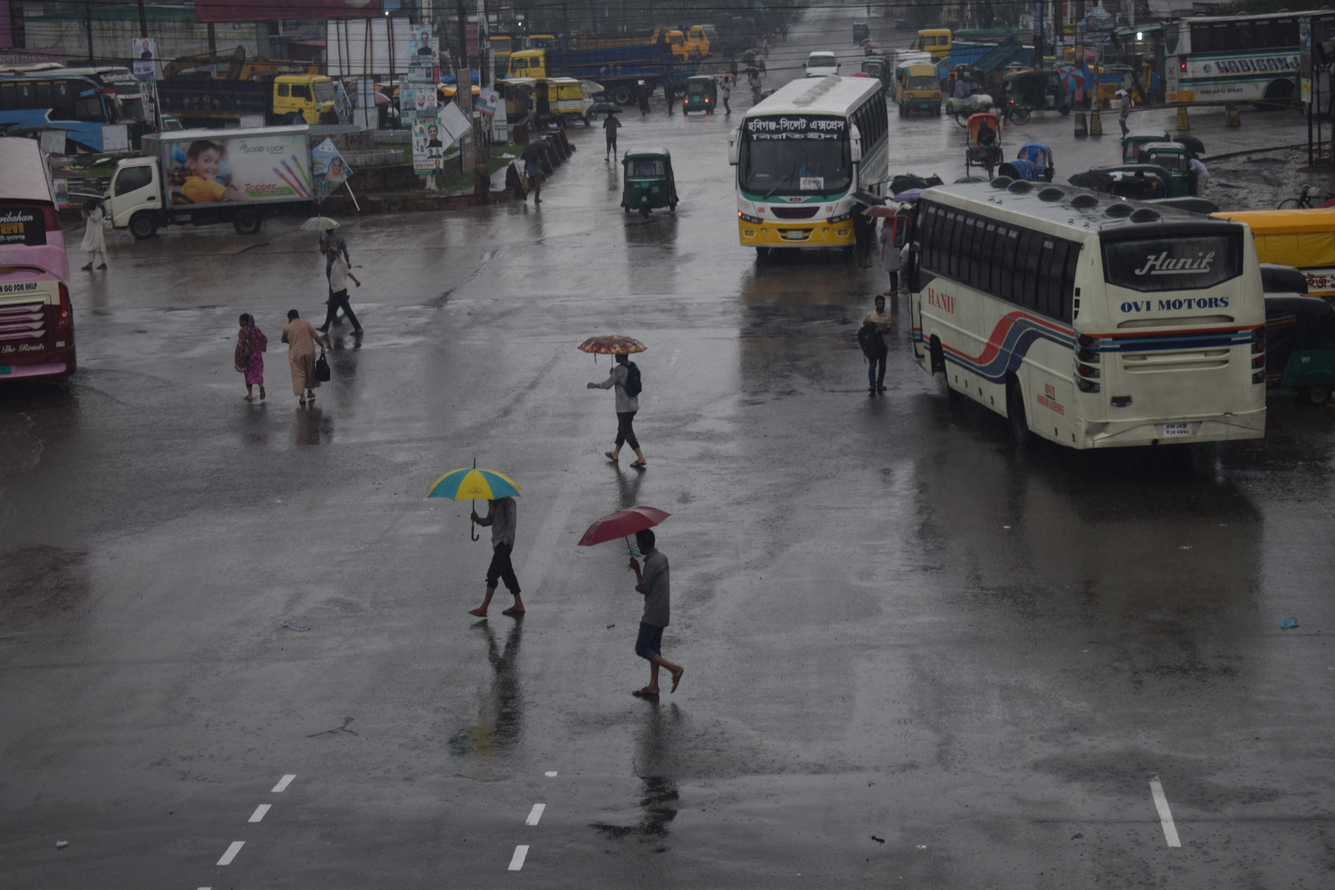Bus: (844, 146, 1297, 519), (704, 61, 904, 285), (1132, 0, 1335, 128), (0, 108, 77, 424), (0, 29, 177, 161)
Car: (950, 103, 1022, 195), (787, 33, 852, 88)
Truck: (72, 119, 326, 260), (134, 63, 371, 145), (485, 32, 679, 111)
